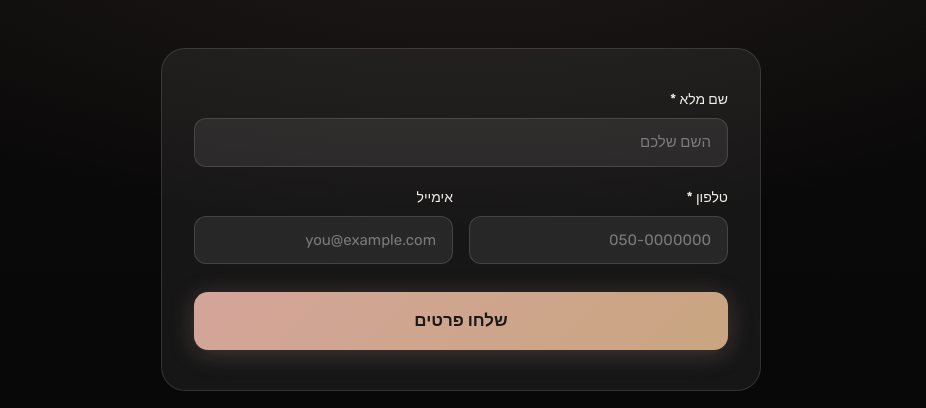
it: OrderForm › shows success message after successful submission
The width and height of the screenshot is (926, 408).
Type "Test User" into the field with placeholder "השם שלכם".
click(461, 142); type("Test User")  # box [194,118,728,166]
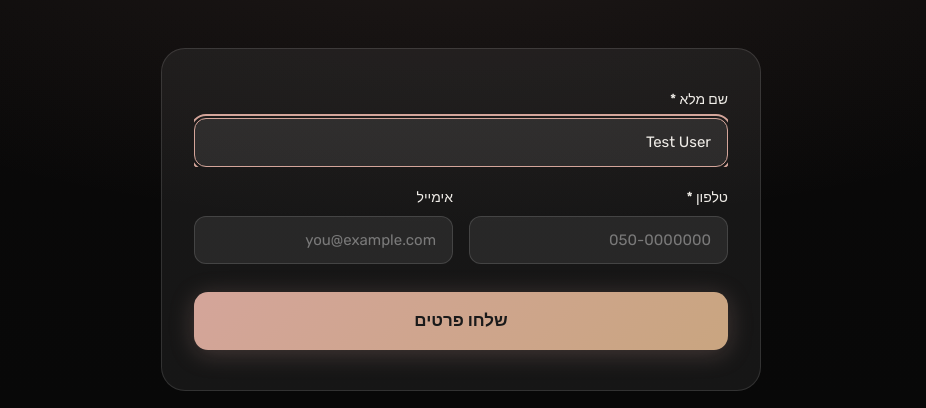
Type "0501234567" into the field with placeholder "050-0000000".
click(598, 240); type("0501234567")  # box [469,216,728,264]
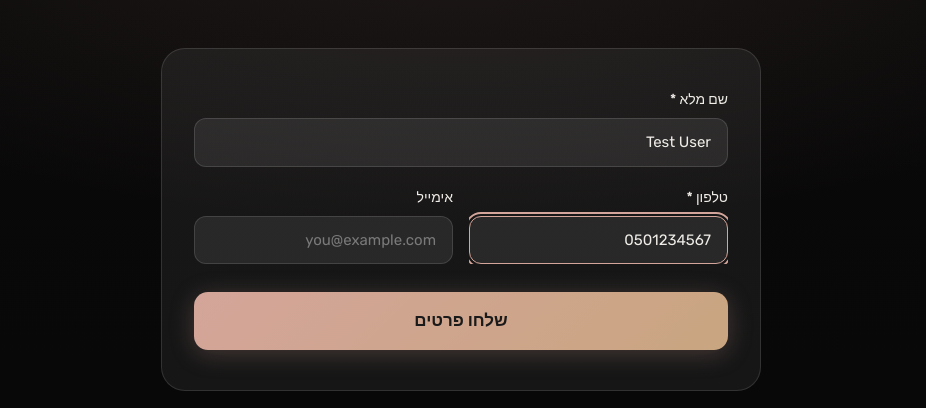
Type "test@example.com" into the field with placeholder "you@example.com".
click(324, 240); type("test@example.com")  # box [194,216,453,264]
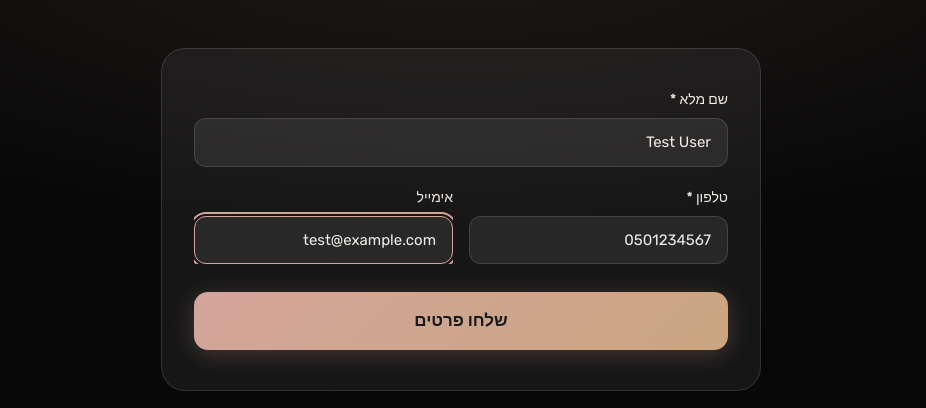
Submit the form, box [161,48,761,390]
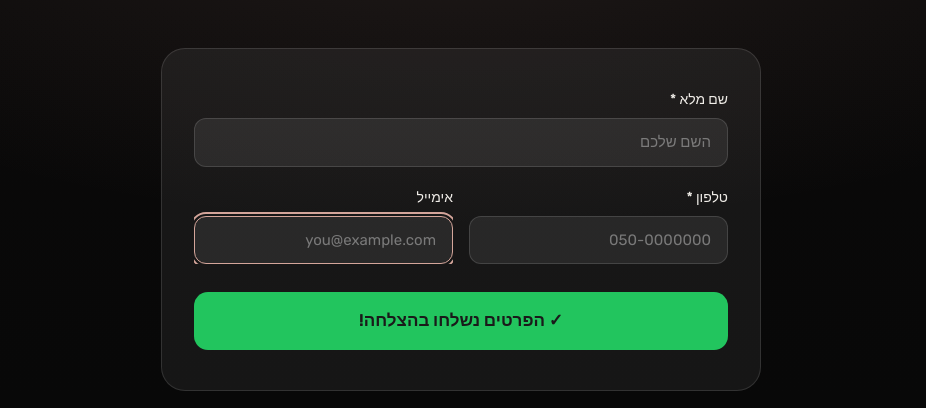
Check: the button "✓ הפרטים נשלחו בהצלחה!" is shown, box [194,292,728,350]
